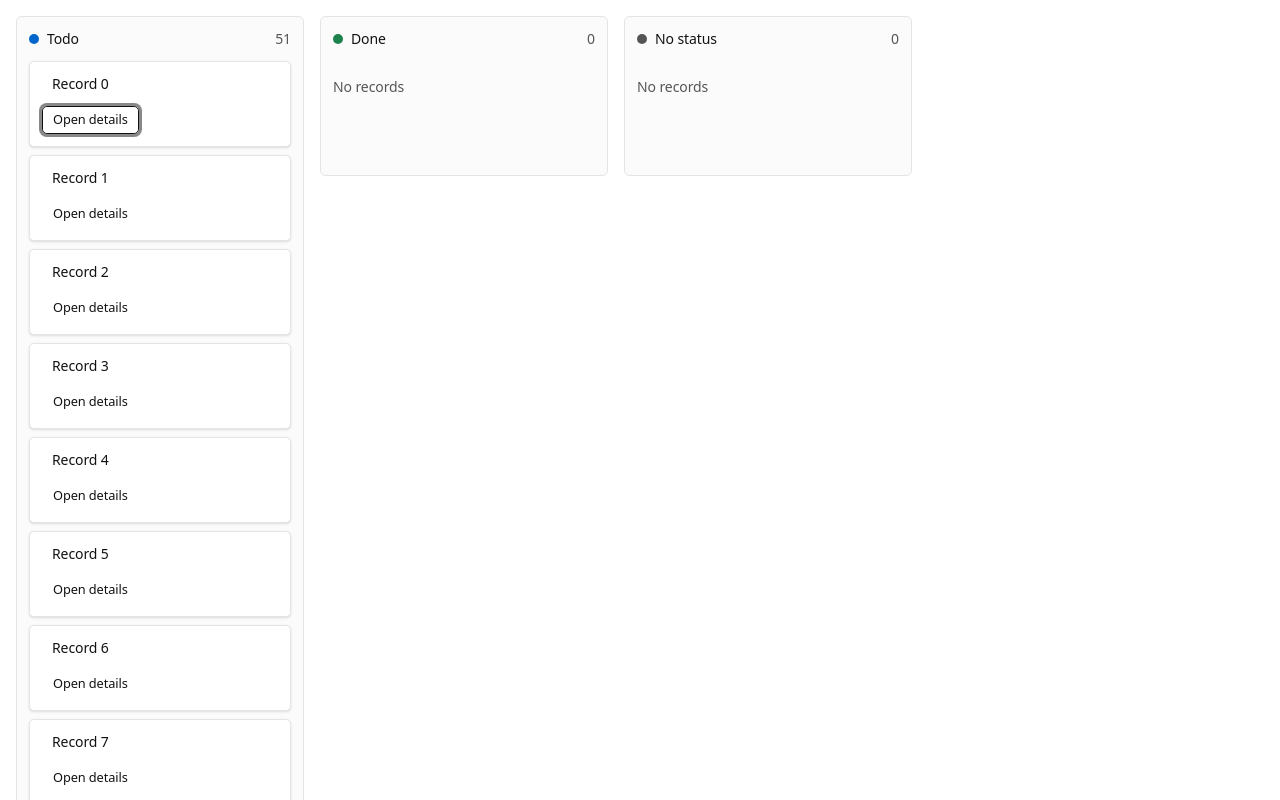
Test case: opens viewer details by keyboard and restores the card button focus on Escape
Click the button with aria-label "Open record details" at point(90, 120), box [42,106,139,134]
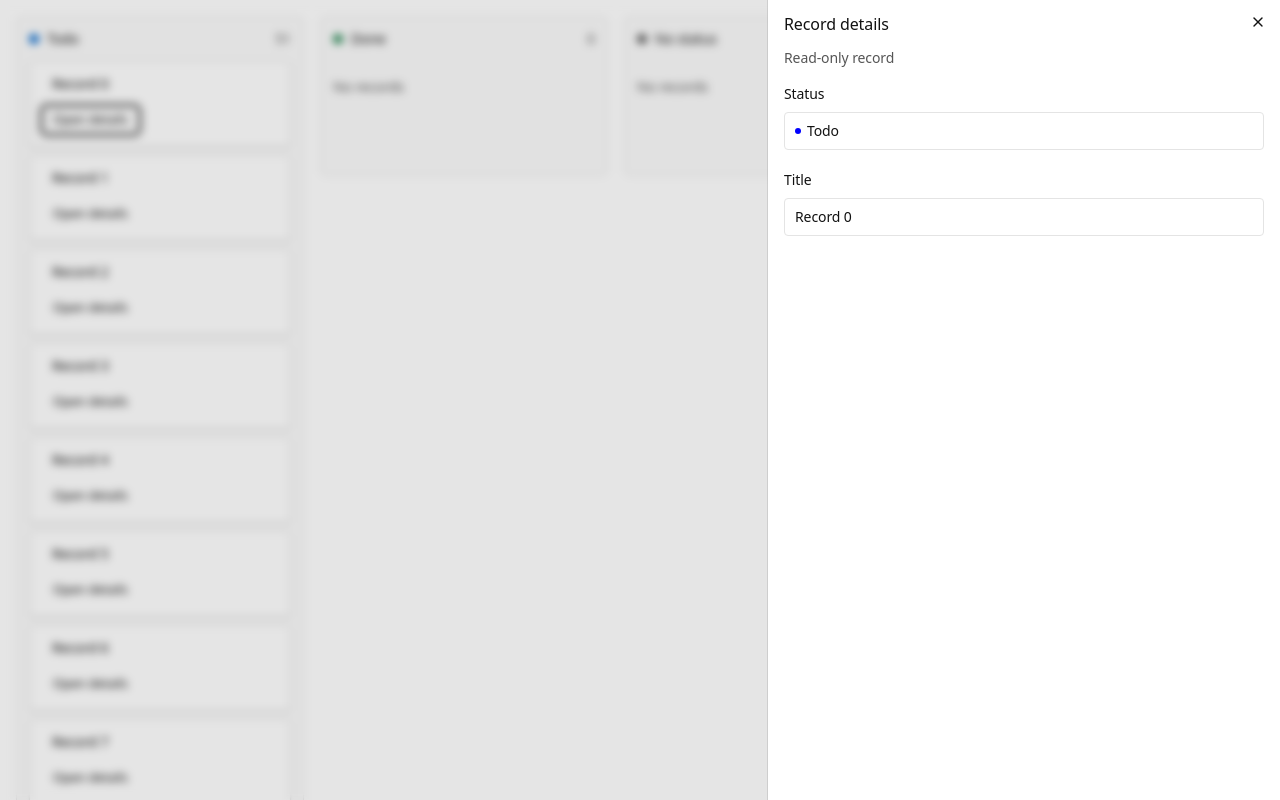
Now the text "Read-only record" is shown, box [784,48,894,67]
Press Escape in the dialog "Record details", box [768,0,1279,799]
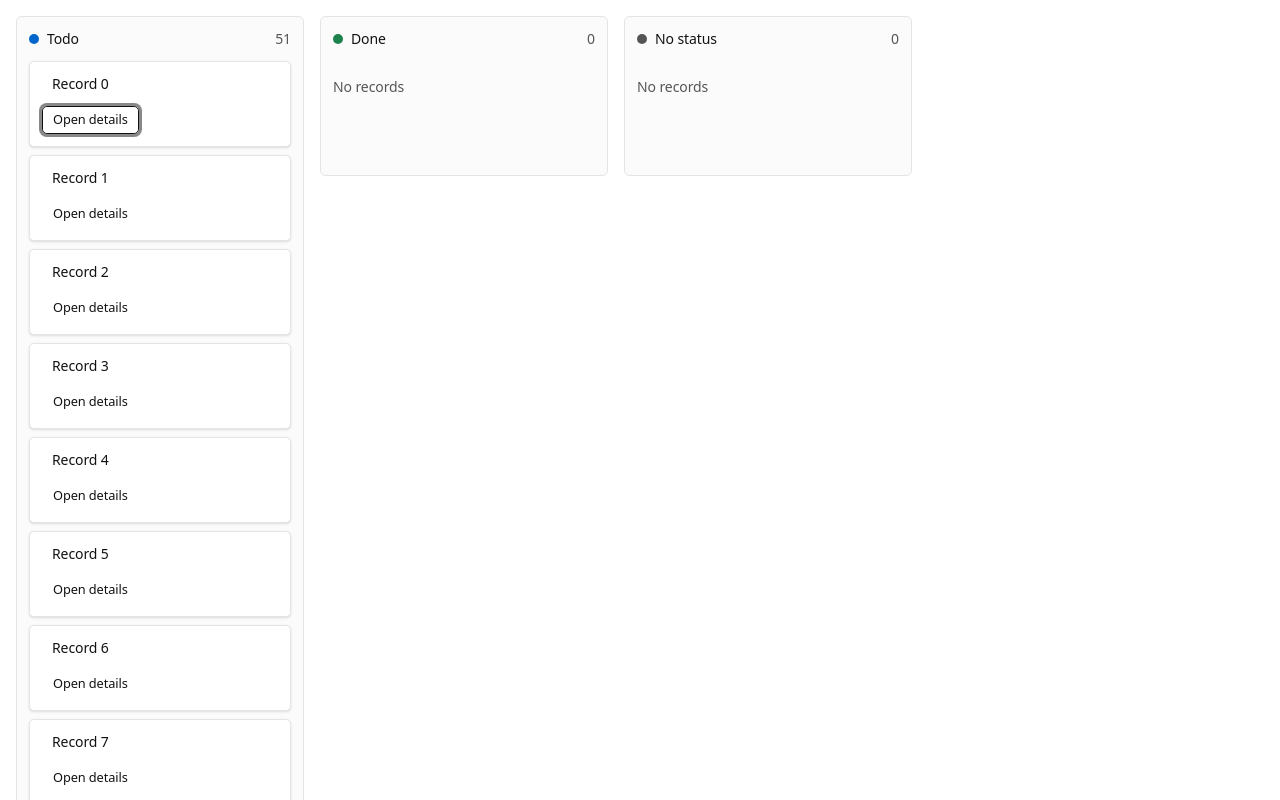
Now the dialog is gone
